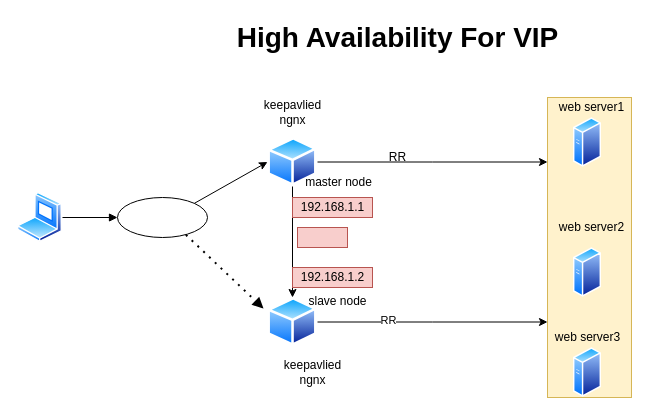
This 649x415 diagram has some shape labels left out. The shapes that lost their labels are listed below. From the top down, each one's centre as x and y in pixels, then its label:
At (x=162, y=217): "10.117.5.123 public IP".
At (x=322, y=237): "VRRP".
